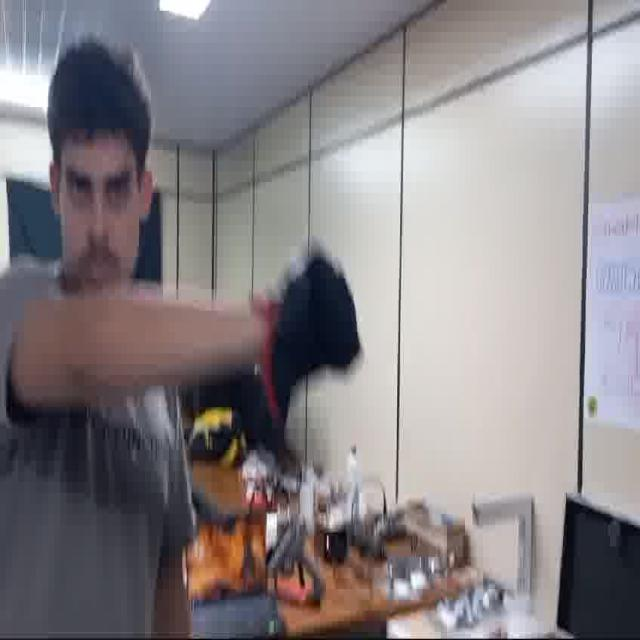Gloves: (267, 238, 358, 430)
